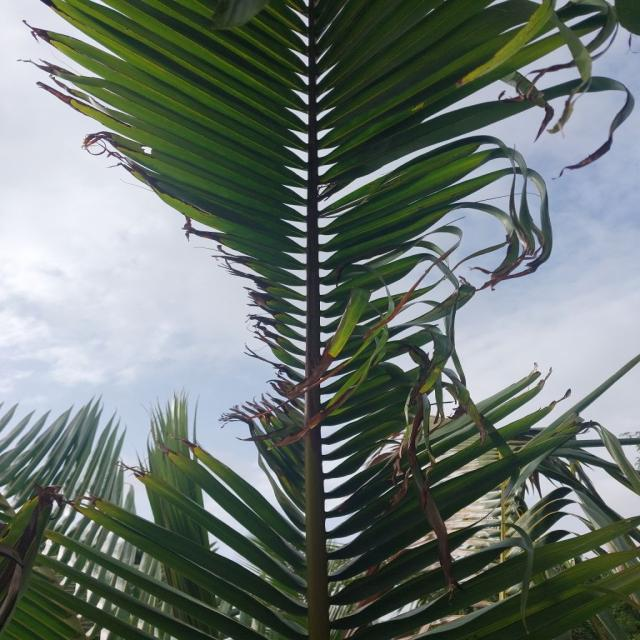leaf rot: (5, 30, 623, 480)
